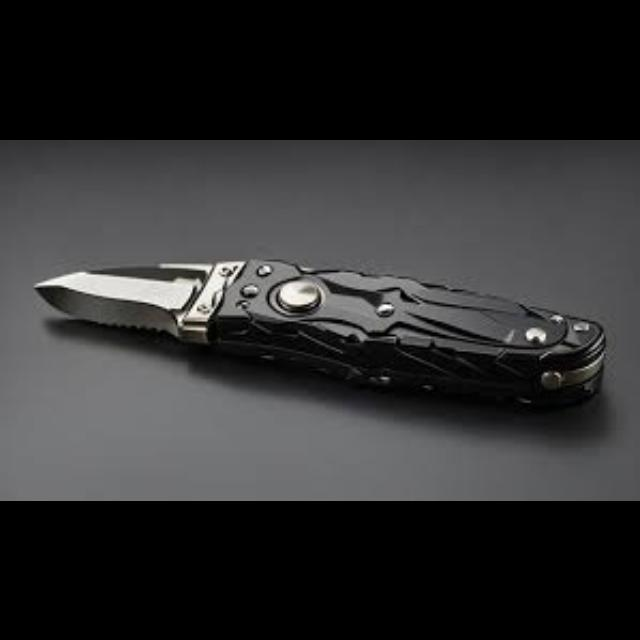Knife: (32, 257, 606, 408)
